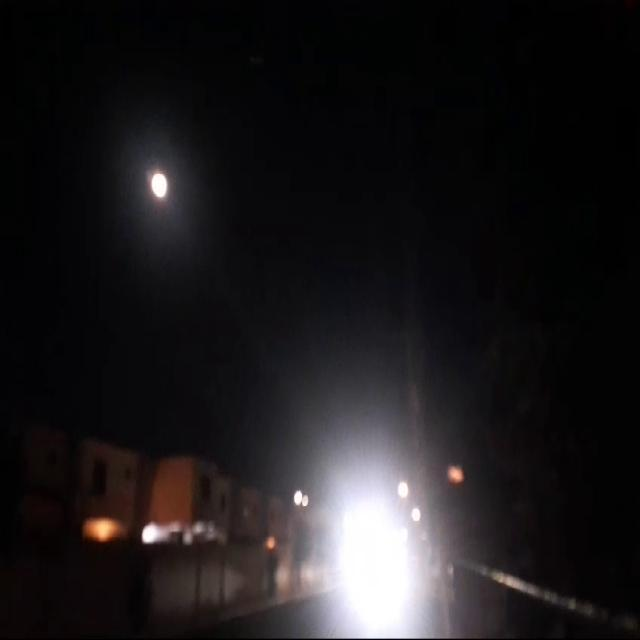moon: (154, 170, 174, 206)
